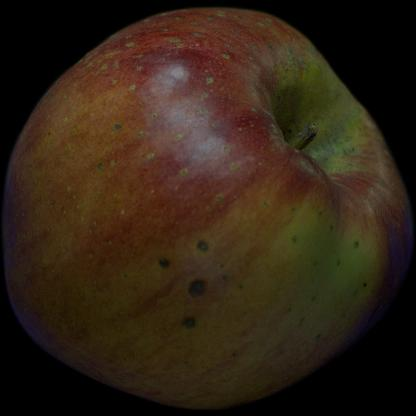defect: (137, 219, 243, 334)
